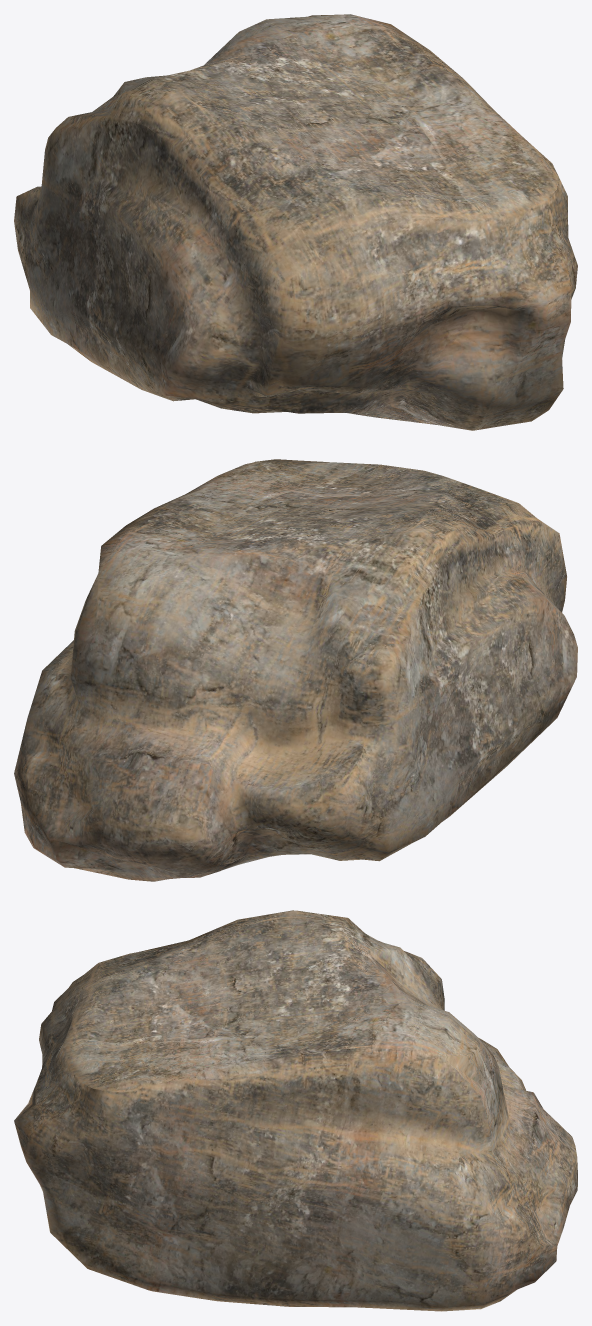
File: video_rock_raw.glb
3 views of the same model, one above another, from view 1: azimuth 30°, elevation 25°; view 2: azimuth 150°, elevation 25°; view 3: azimuth 270°, elevation 25° (orthographic). The views are drawn at different scales.
Visible parts, largest first — view 1: video_rock; view 2: video_rock; view 3: video_rock.
Part boxes in pixels (<box>): video_rock: <box>14,14,577,430</box>; video_rock: <box>14,459,577,881</box>; video_rock: <box>14,910,577,1311</box>.
Bounding box in the file's own units: 4.08 × 3.1 × 5.7.
1 material, 1 textured.
